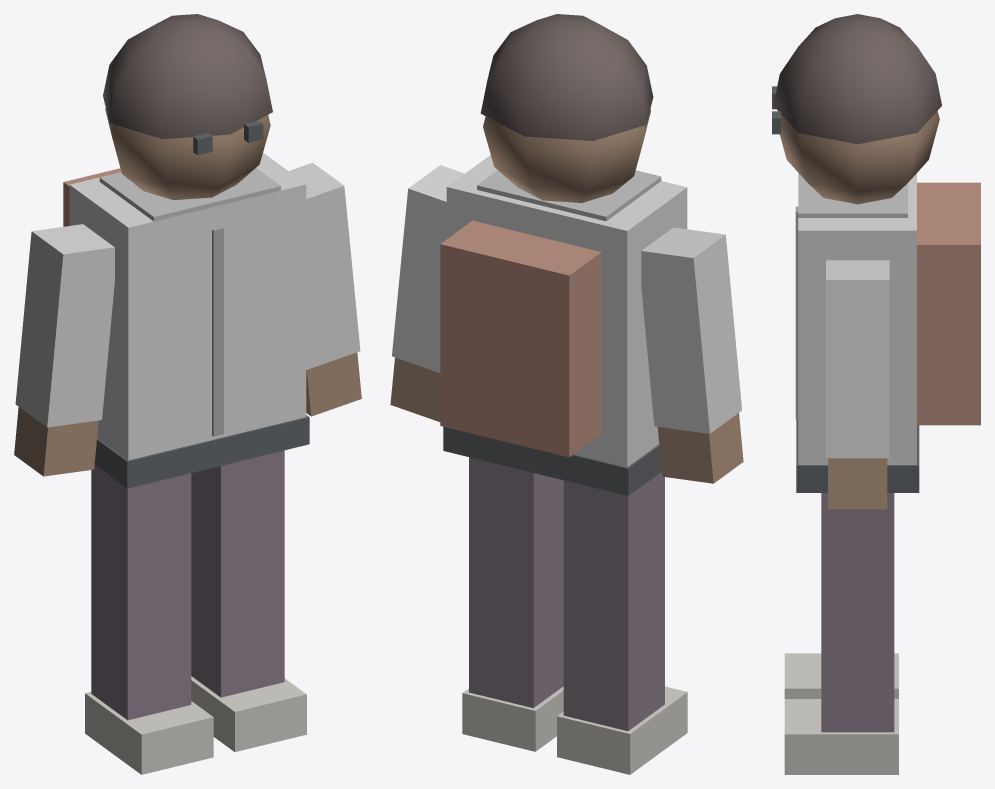
File: walker_7.glb
3 renders of one model, left to right at view 1: azimuth 30°, elevation 25°; view 2: azimuth 150°, elevation 25°; view 3: azimuth 270°, elevation 25°, orthographic.
Visible parts, largest first — view 1: walker_7; view 2: walker_7; view 3: walker_7.
Boxes of the visible parts, x1,y1,x2,y2 form: walker_7: [14, 14, 361, 774]; walker_7: [390, 14, 743, 774]; walker_7: [772, 14, 980, 774].
Bounding box in the file's own units: 0.8113 × 1.72 × 0.458.
